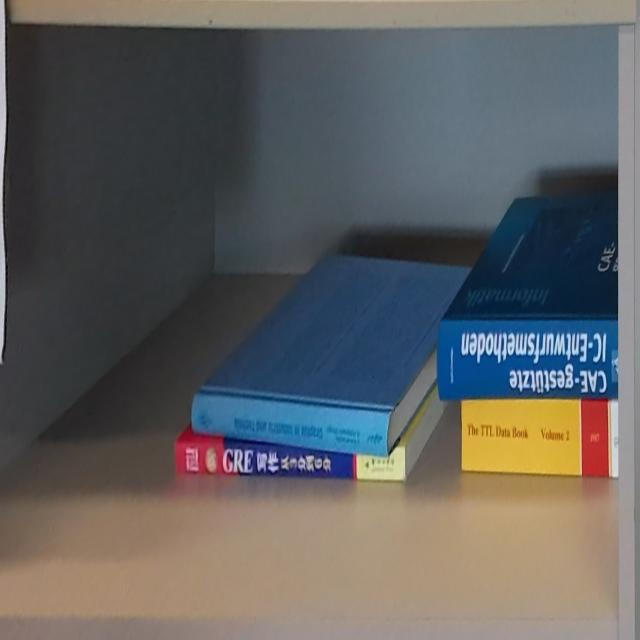Book Spine: (437, 319, 619, 401), (189, 392, 392, 459), (461, 402, 620, 477), (176, 443, 406, 483)
